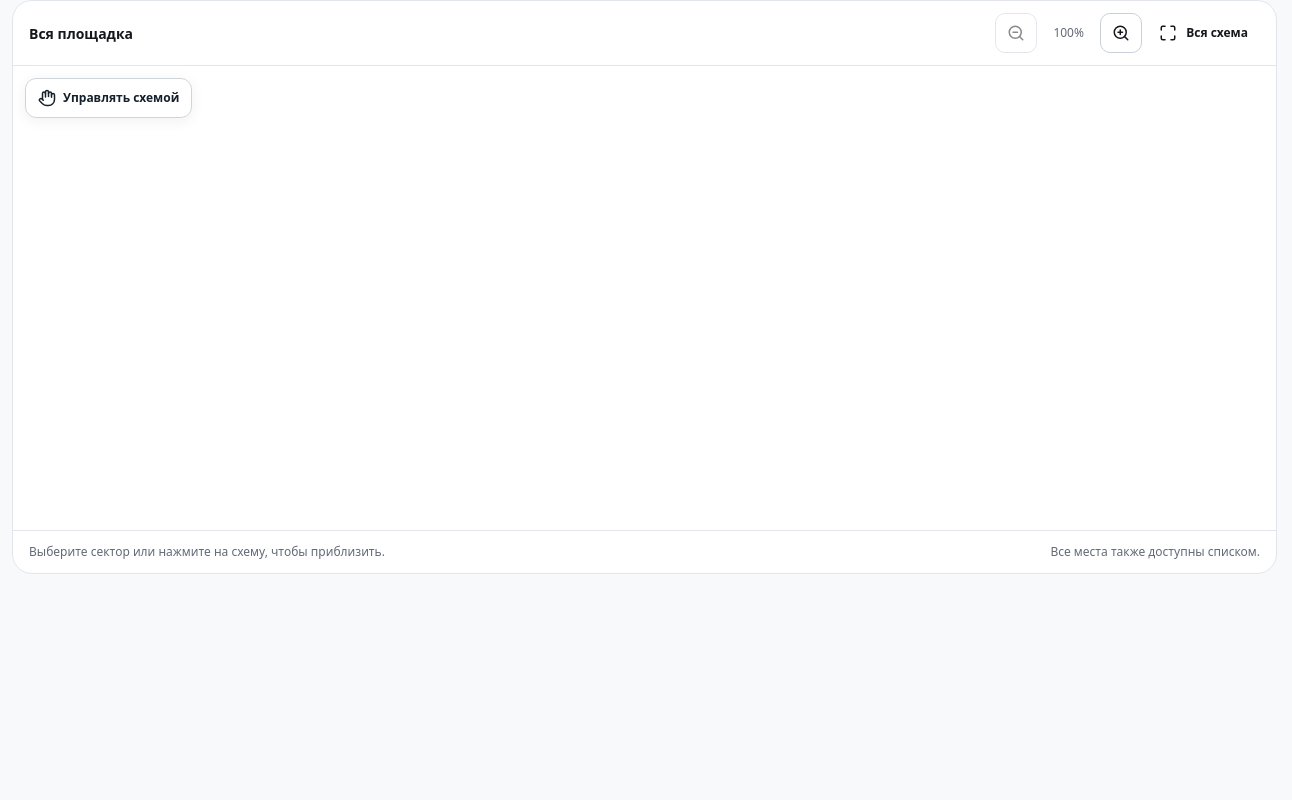
Scenario: camera lifecycle regression › coalesces repeated camera changes into a frame without losing the latest update
The image size is (1292, 800).
Click the button named "Приблизить": click(1121, 33) [1100, 13, 1142, 53]
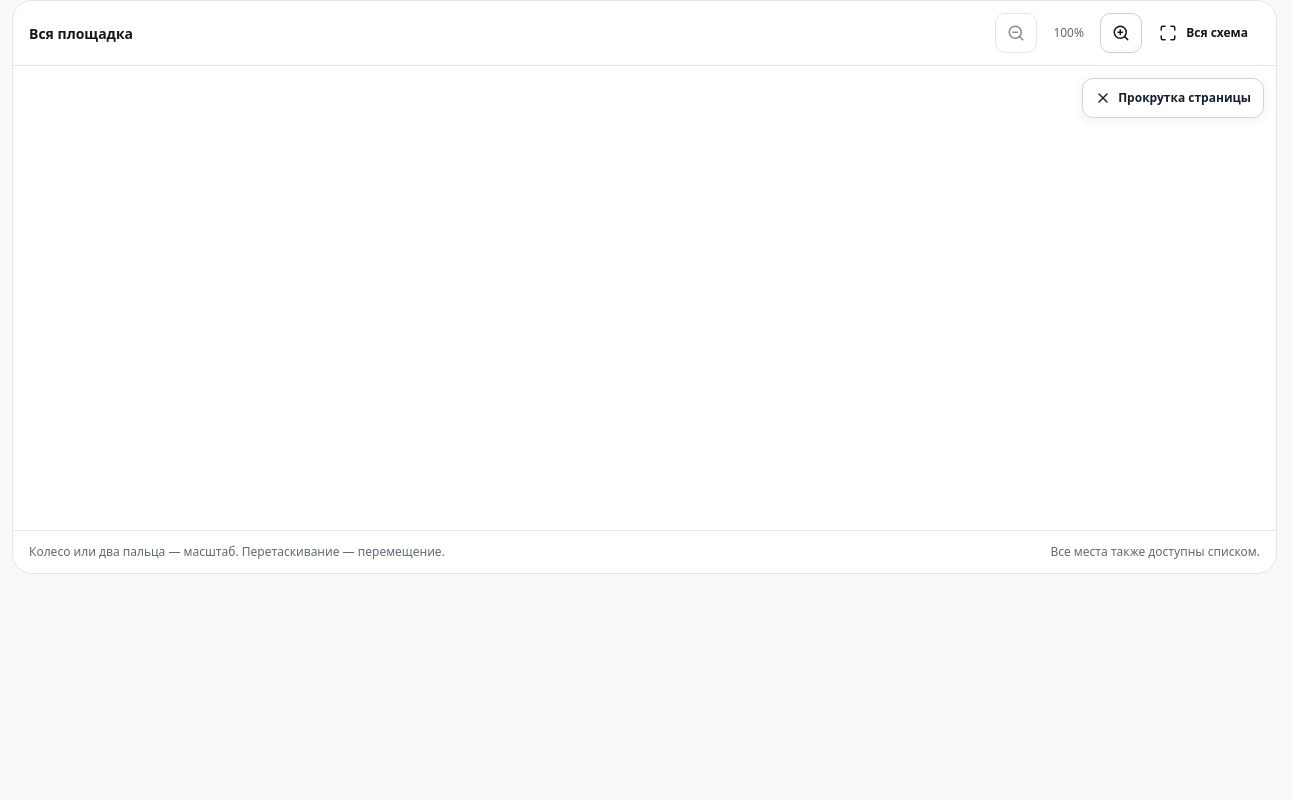
Click the button named "Приблизить": click(1121, 33) [1100, 13, 1142, 53]
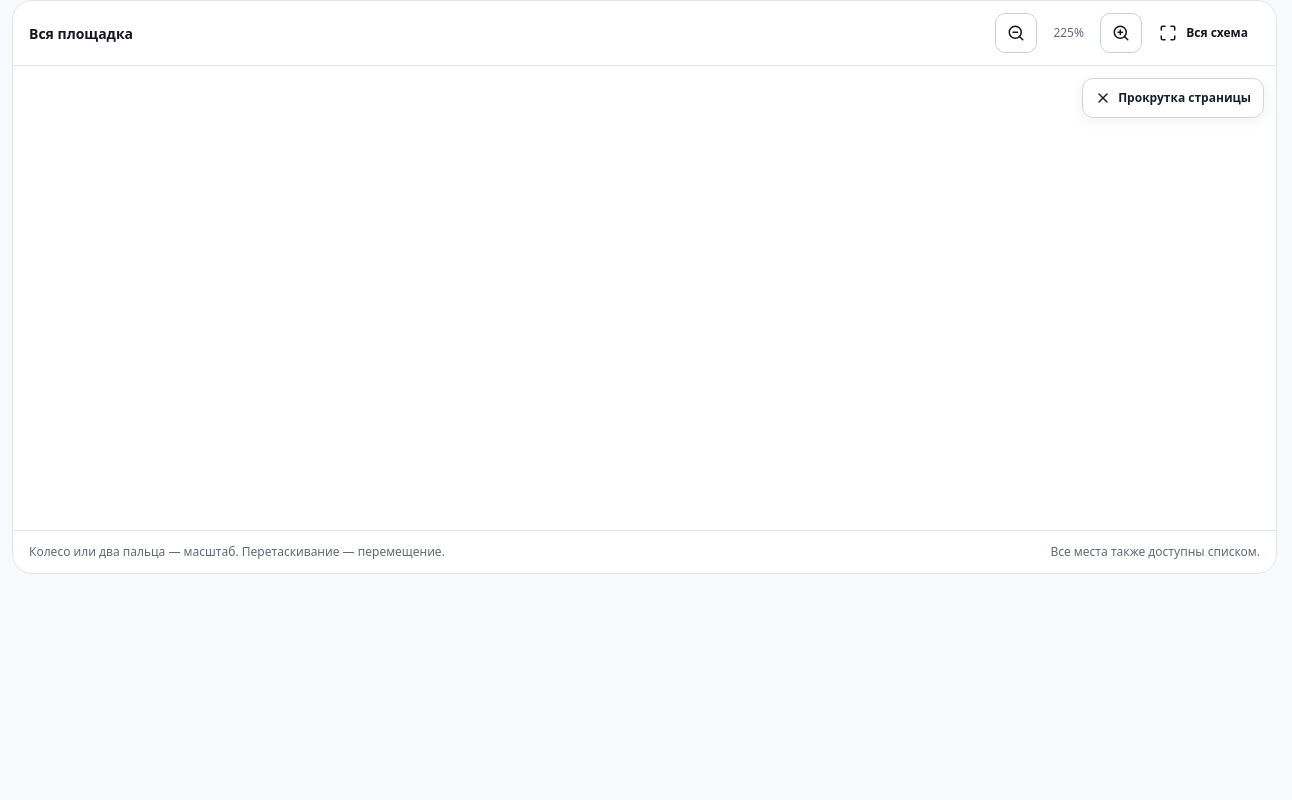
Expected: the text named "Масштаб схемы" reads "225%", [1053, 24, 1084, 41]
